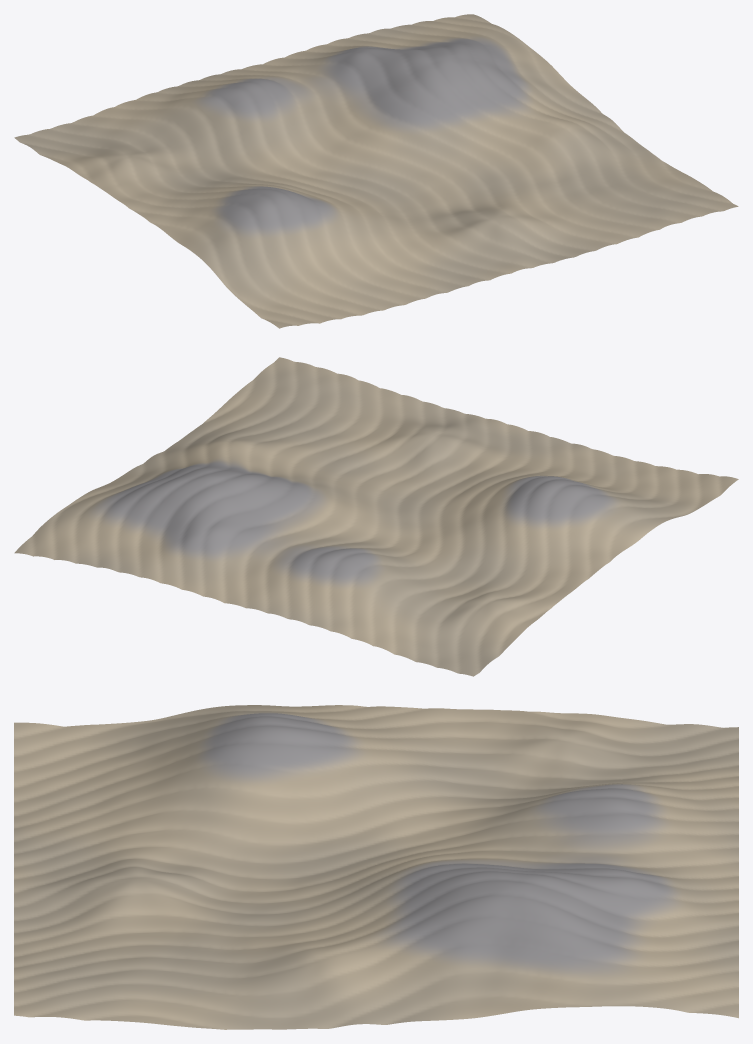
File: ocean-bed.glb
3 views of the same model, one above another, from view 1: azimuth 30°, elevation 25°; view 2: azimuth 150°, elevation 25°; view 3: azimuth 270°, elevation 25° (orthographic). The views are drawn at different scales.
Visible parts, largest first — view 1: OceanBed; view 2: OceanBed; view 3: OceanBed.
Part boxes in pixels (box(x1,y1,x2,y2)): OceanBed: box(14, 14, 738, 328); OceanBed: box(14, 357, 738, 676); OceanBed: box(14, 705, 738, 1029).
Bounding box in the file's own units: 2 × 0.2402 × 2.
